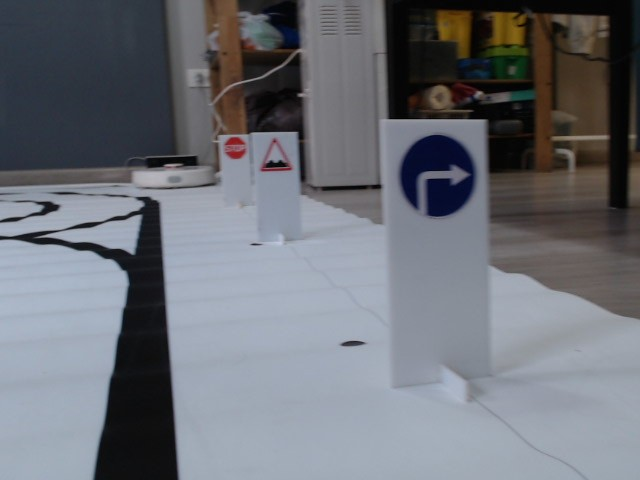Nerov: (259, 136, 293, 173)
Right: (398, 134, 475, 217)
Stop: (223, 138, 245, 159)
